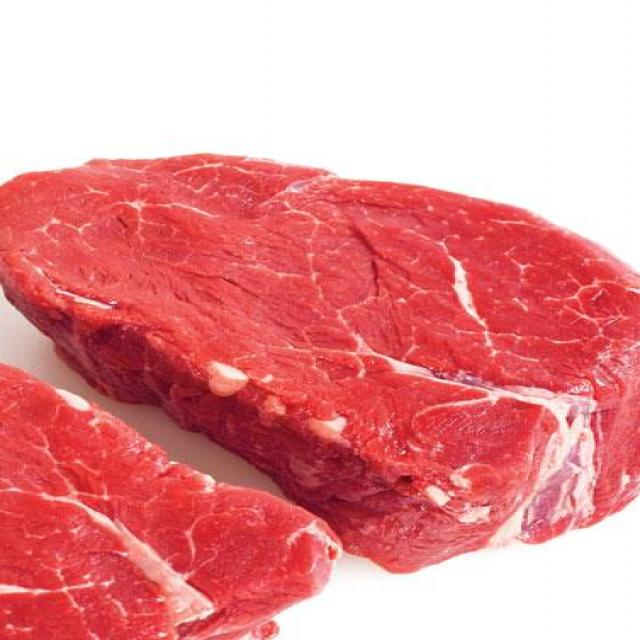Beef: (0, 142, 640, 551), (0, 359, 367, 640)
